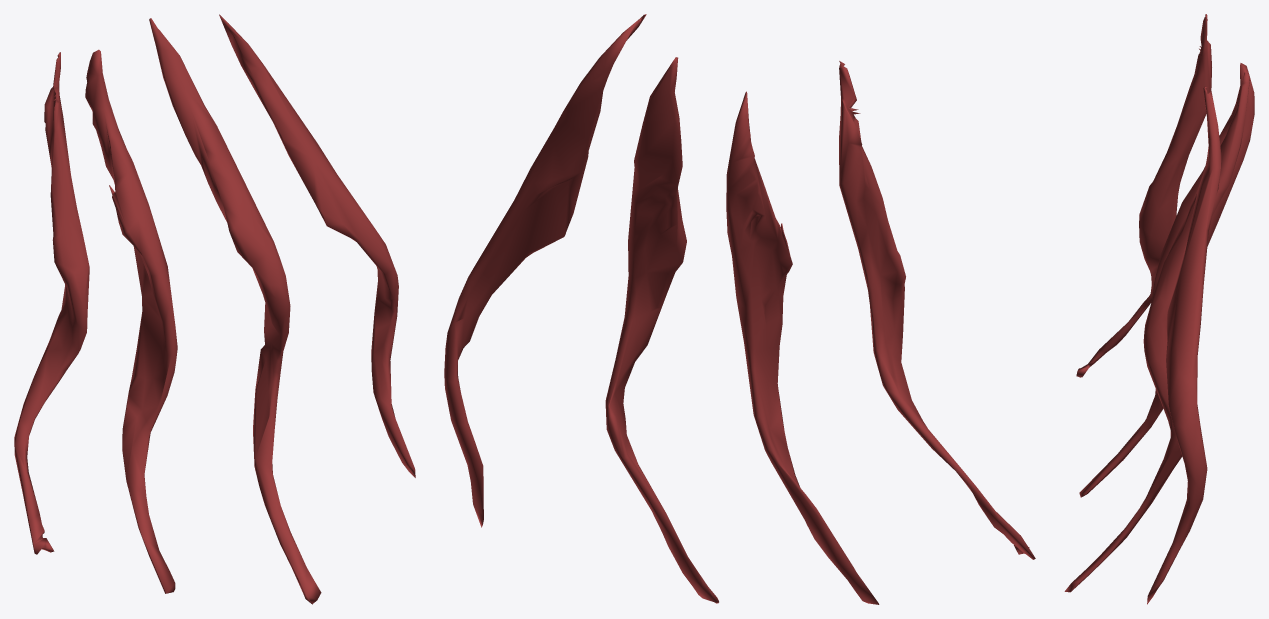
Rendered from lumbrical-muscles-of-hand-l.glb.
The picture shows the model from 3 angles, left to right: view 1: azimuth 30°, elevation 25°; view 2: azimuth 150°, elevation 25°; view 3: azimuth 270°, elevation 25°; orthographic projection. The views are drawn at different scales.
Visible parts, largest first — view 1: Lumbrical muscles of hand.l; view 2: Lumbrical muscles of hand.l; view 3: Lumbrical muscles of hand.l.
Part boxes in pixels (x1,y1,x2,y2): Lumbrical muscles of hand.l: (14, 14, 415, 604); Lumbrical muscles of hand.l: (444, 14, 1035, 604); Lumbrical muscles of hand.l: (1064, 14, 1254, 604).
Size of the model in its own units: 0.0758 by 0.0929 by 0.0321.
